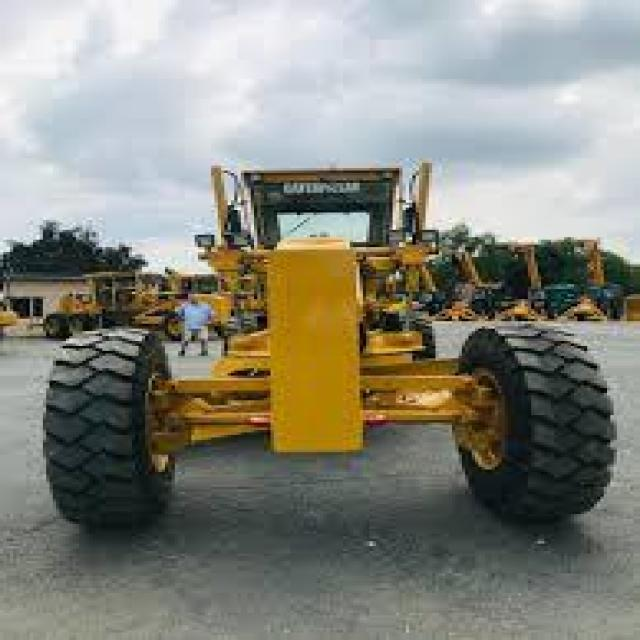buldozerpayloadergrader: (19, 128, 614, 532)
